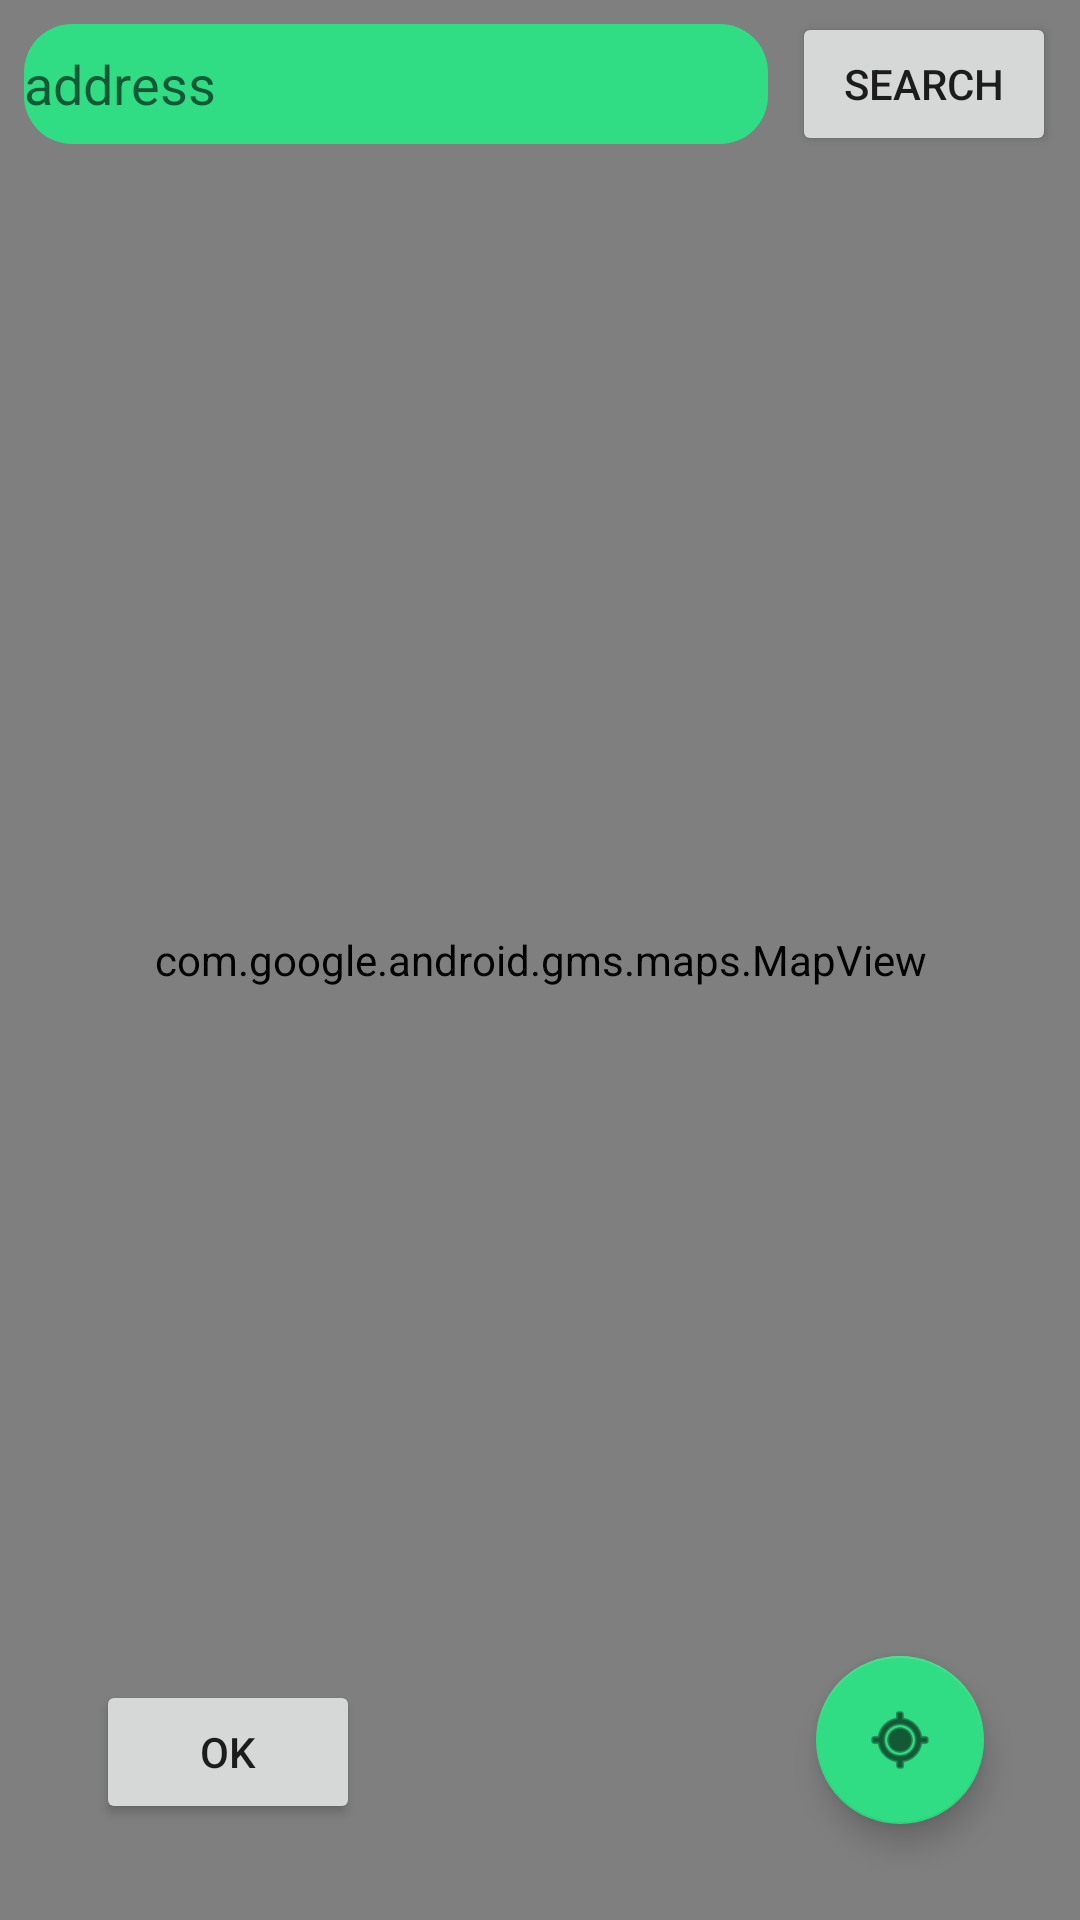

Screen size 1080 × 1920. Icon name, then its center in pixels as [x,y]:
mylocation: [900,1740]
